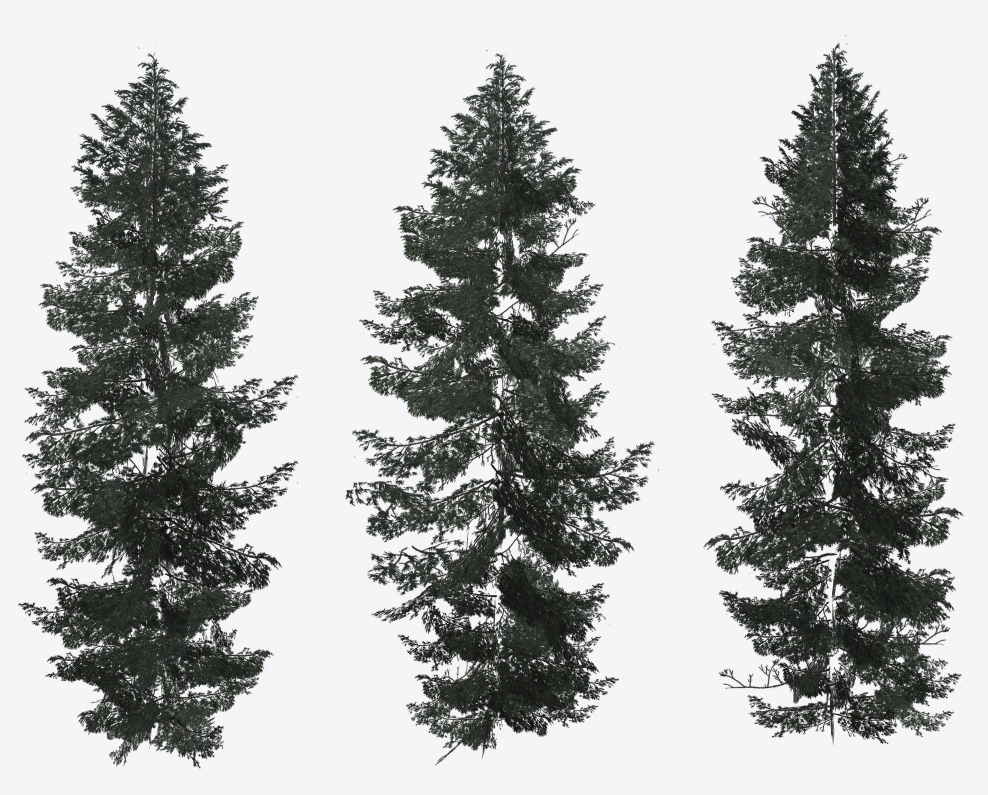
File: distant-tree-21.glb
3 views of the same model, side by side, from view 1: azimuth 30°, elevation 25°; view 2: azimuth 150°, elevation 25°; view 3: azimuth 270°, elevation 25° (orthographic).
Visible parts, largest first — view 1: Tree_Branches_01; view 2: Tree_Branches_01; view 3: Tree_Branches_01.
Part boxes in pixels (left/top/right/bottom): Tree_Branches_01: left=18, top=47, right=297, bottom=768; Tree_Branches_01: left=345, top=50, right=658, bottom=764; Tree_Branches_01: left=703, top=35, right=963, bottom=743.
Bounding box in the file's own units: 781 × 2045 × 749.
Materials: 1 (1 with a texture image).
